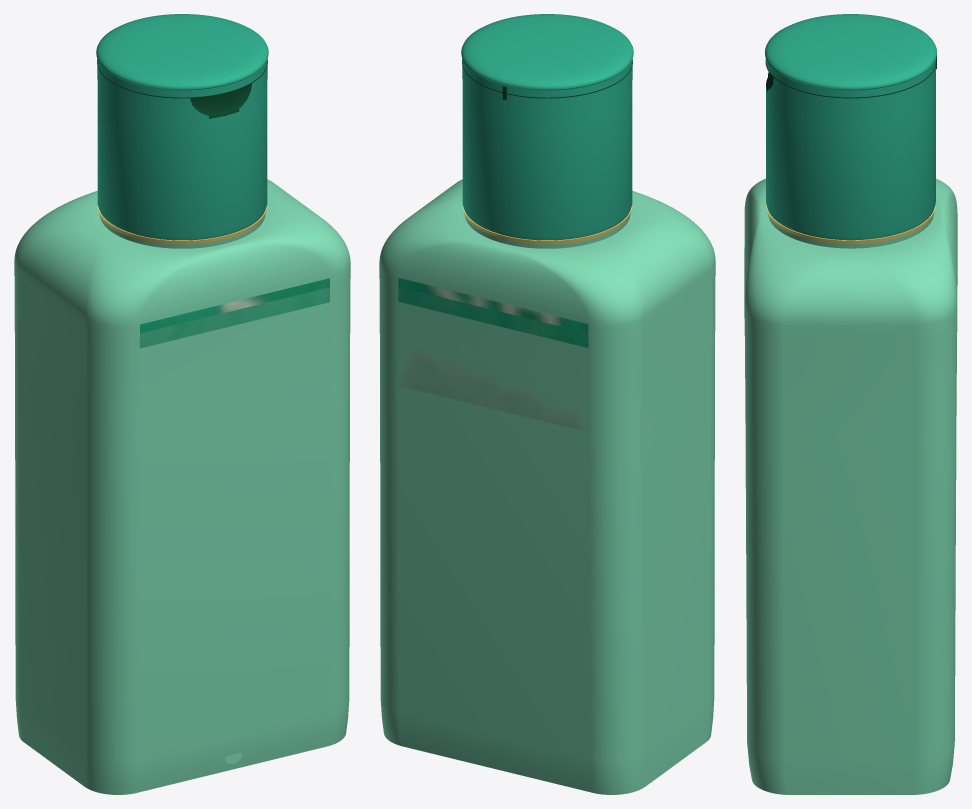
File: pechoin_uv2.glb
3 renders of one model, left to right at view 1: azimuth 30°, elevation 25°; view 2: azimuth 150°, elevation 25°; view 3: azimuth 270°, elevation 25°, orthographic.
Parts seen in each view (by area): view 1: bottle_shell, cap_skirt, cap_top, gold_band, neck_ring; view 2: bottle_shell, cap_skirt, cap_top, gold_band, neck_ring; view 3: bottle_shell, cap_skirt, cap_top, gold_band, neck_ring.
Part boxes in pixels (box(x1,y1,x2,y2)): bottle_shell: box(14, 179, 350, 794); cap_skirt: box(97, 59, 267, 240); cap_top: box(96, 14, 268, 90); gold_band: box(97, 205, 267, 244); neck_ring: box(99, 215, 265, 248); bottle_shell: box(379, 179, 715, 794); cap_skirt: box(462, 59, 632, 240); cap_top: box(461, 14, 633, 90); gold_band: box(462, 205, 632, 244); neck_ring: box(464, 215, 630, 248); bottle_shell: box(744, 178, 957, 794); cap_skirt: box(766, 59, 935, 240); cap_top: box(765, 14, 936, 90); gold_band: box(766, 204, 935, 244); neck_ring: box(768, 215, 933, 248).
Size of the model in its own units: 0.045 by 0.114 by 0.032.
Materials: 6 (1 with a texture image).
